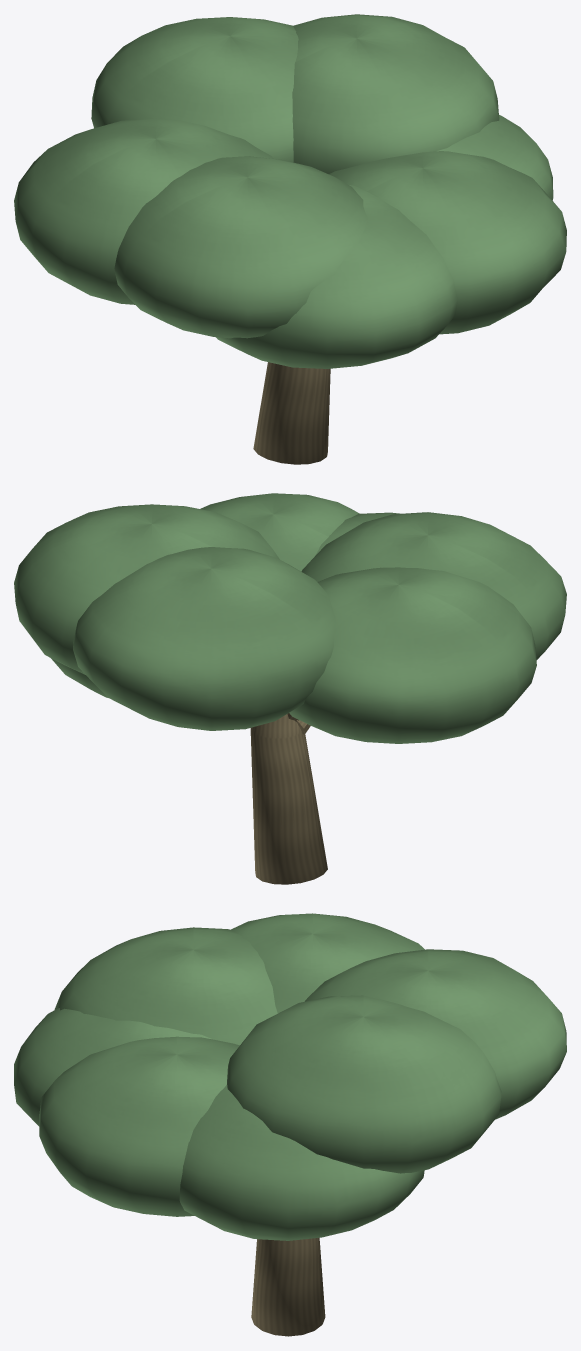
File: swamp_buttonwood_swamp_and_mangrove_22602.glb
The picture shows the model from 3 angles, top to bottom: view 1: azimuth 30°, elevation 25°; view 2: azimuth 150°, elevation 25°; view 3: azimuth 270°, elevation 25°; orthographic projection. The views are drawn at different scales.
Parts seen in each view (by area): view 1: buttonwood; view 2: buttonwood; view 3: buttonwood.
Part boxes in pixels (x1,y1,x2,y2): buttonwood: (14,14,566,464); buttonwood: (14,493,566,884); buttonwood: (14,913,566,1336).
Size of the model in its own units: 2.73 by 1.91 by 2.69.
Materials: 2 (2 with a texture image).
